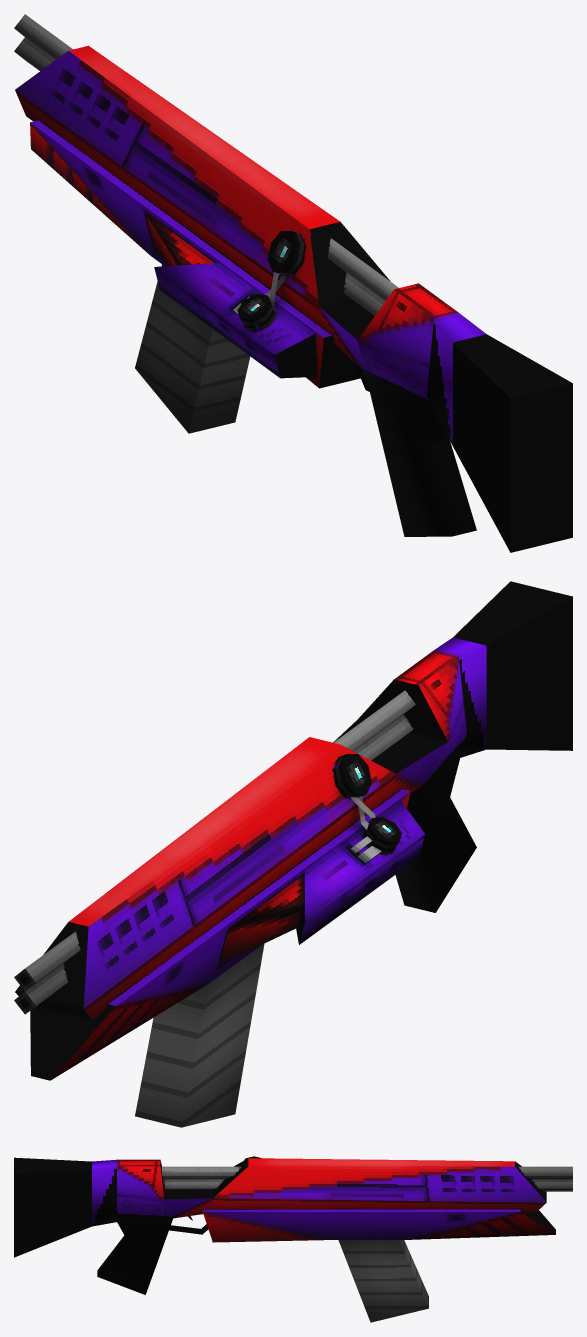
The picture shows the model from 3 angles, top to bottom: view 1: azimuth 30°, elevation 25°; view 2: azimuth 150°, elevation 25°; view 3: azimuth 270°, elevation 25°; orthographic projection. The views are drawn at different scales.
Visible parts, largest first — view 1: rifle mag.001; view 2: rifle mag.001; view 3: rifle mag.001.
Part boxes in pixels (<box>): rifle mag.001: <box>14,14,572,552</box>; rifle mag.001: <box>14,581,572,1127</box>; rifle mag.001: <box>14,1156,572,1322</box>.
Bounding box in the file's own units: 0.1805 × 0.3929 × 1.29.
1 material, 1 textured.
